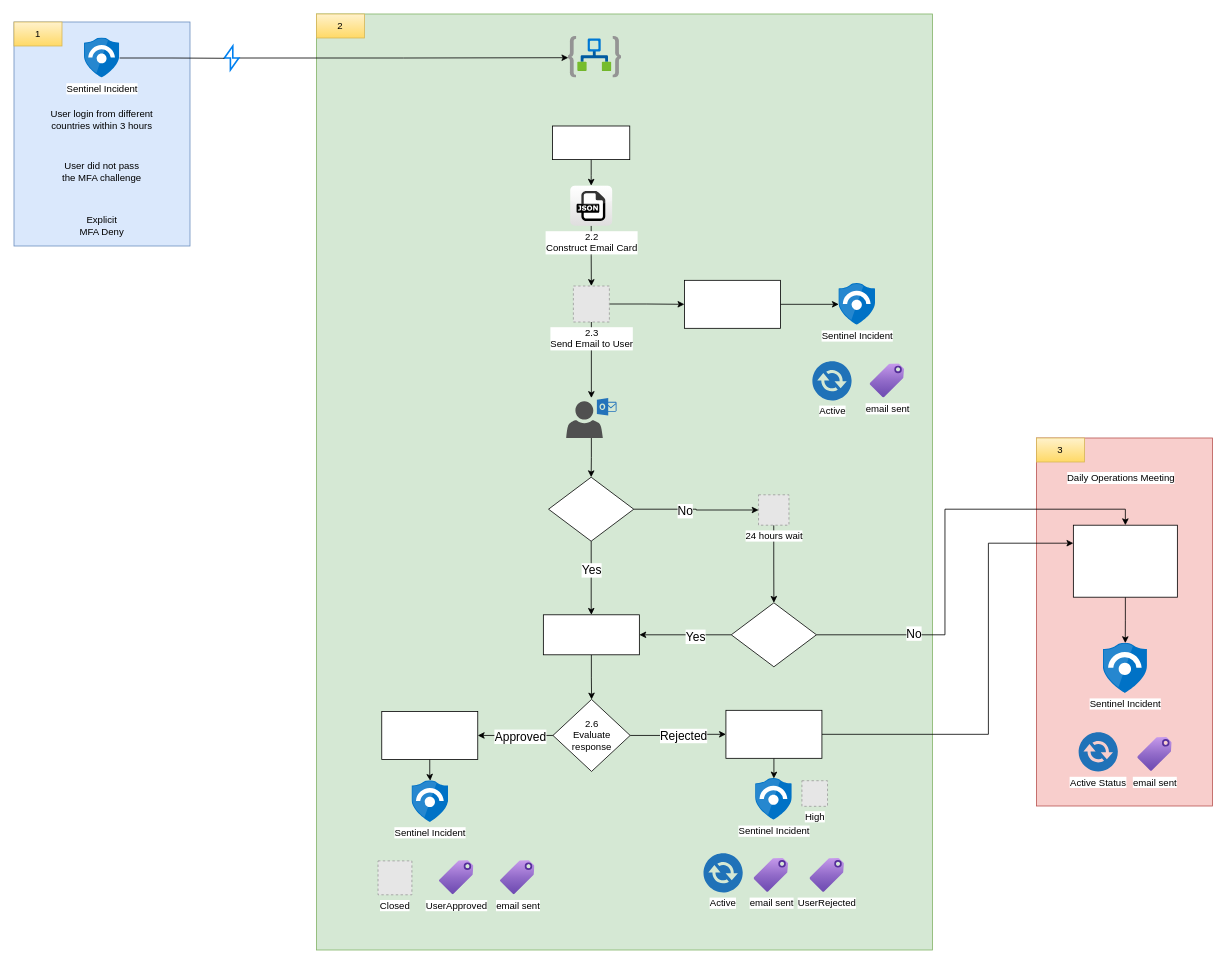
This 1226x964 diagram has some shape labels left out. Grey dashed boxes stand in for pictures. Each missing label, with the centre of its shape:
"2.1 Extract Incident details" goes at (591,142).
"2.4 Update Sentinel Incident tag with email Sent" goes at (732,304).
"2.4 User replied?" goes at (591,508).
"2.5 Extract User Response" goes at (591,634).
"2.5 User replied?" goes at (773,634).
"2.7 Update Sentinel Incident as Closed with User info" goes at (429,735).
"2.7 Update Sentinel Incident Severity High" goes at (773,734).
"3.1 Operation Team Connect with User and Update incident with investigation" goes at (1125,560).
"azuresentinel-email-approval" goes at (594,57).
